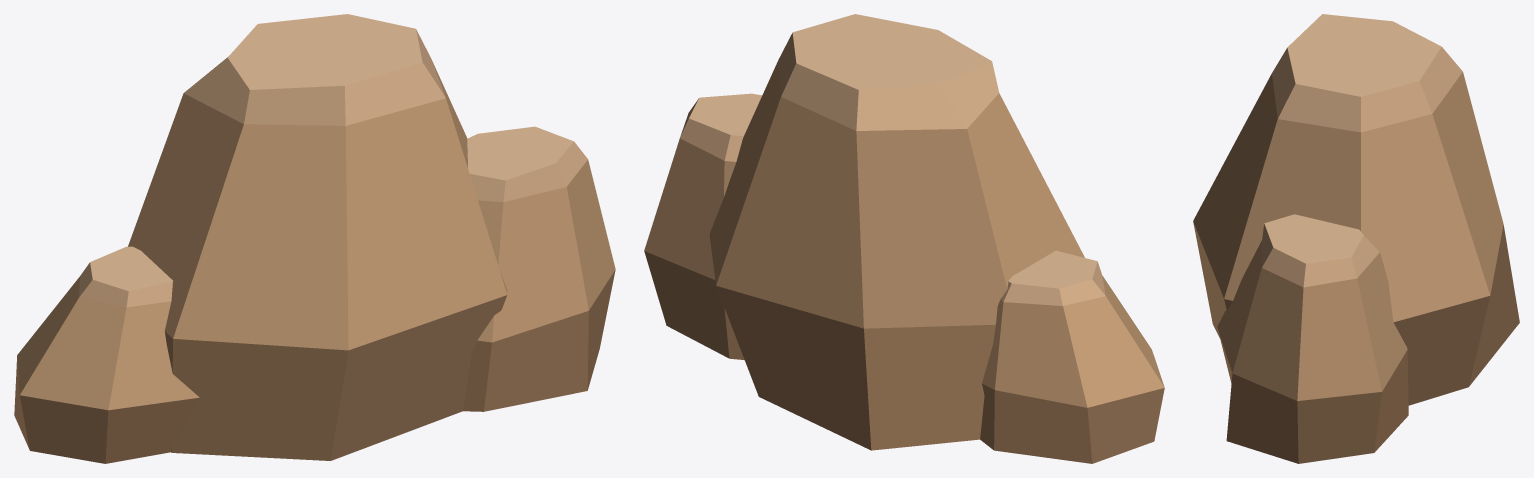
File: rocks.glb
3 renders of one model, left to right at view 1: azimuth 30°, elevation 25°; view 2: azimuth 150°, elevation 25°; view 3: azimuth 270°, elevation 25°, orthographic. The views are drawn at different scales.
Visible parts, largest first — view 1: RockFormation; view 2: RockFormation; view 3: RockFormation.
Part boxes in pixels (x1,y1,x2,y2): RockFormation: [14, 14, 615, 463]; RockFormation: [644, 14, 1164, 463]; RockFormation: [1193, 14, 1519, 463].
Bounding box in the file's own units: 5.27 × 3 × 2.95.
